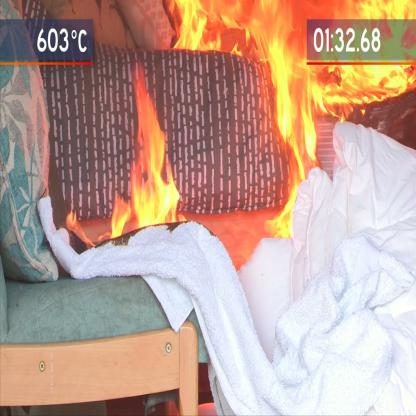fire: (175, 5, 416, 245), (64, 58, 184, 257)
